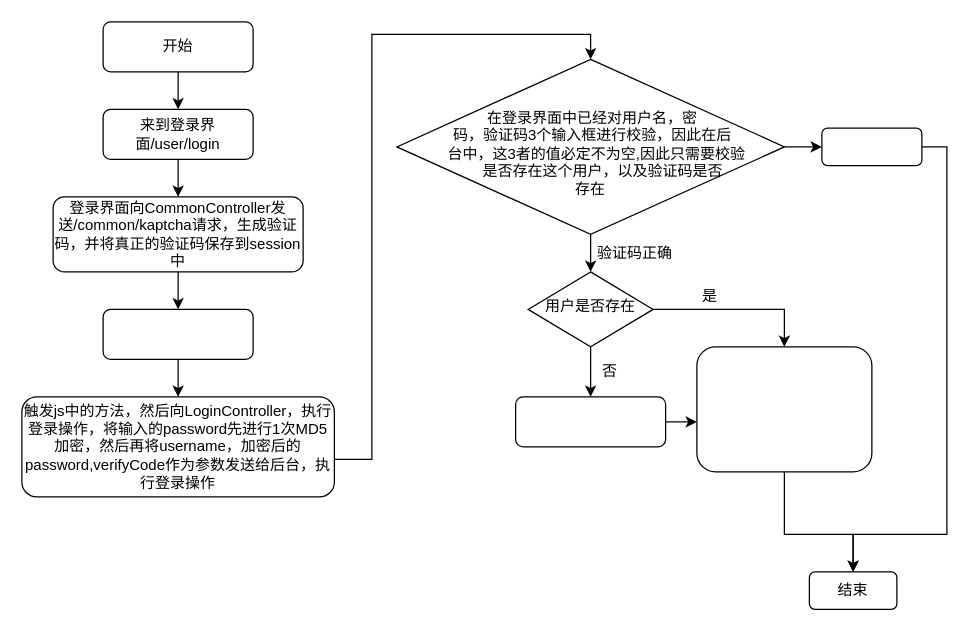
Some shapes in this 979 by 631 pixel diagram are drawn without their labels. The centre of each missing label's shape, as x and y in pixels:
将用户保存到session中，然后将Result.success()返回到前端。前端根据判断响应码，从而发送请求/admin/,来到后台首页: (x=784, y=409)
执行注册操作: (x=590, y=421)
表单数据输入完毕，点击提交按钮: (x=177, y=333)
返回错误信息 给前端: (x=871, y=146)
